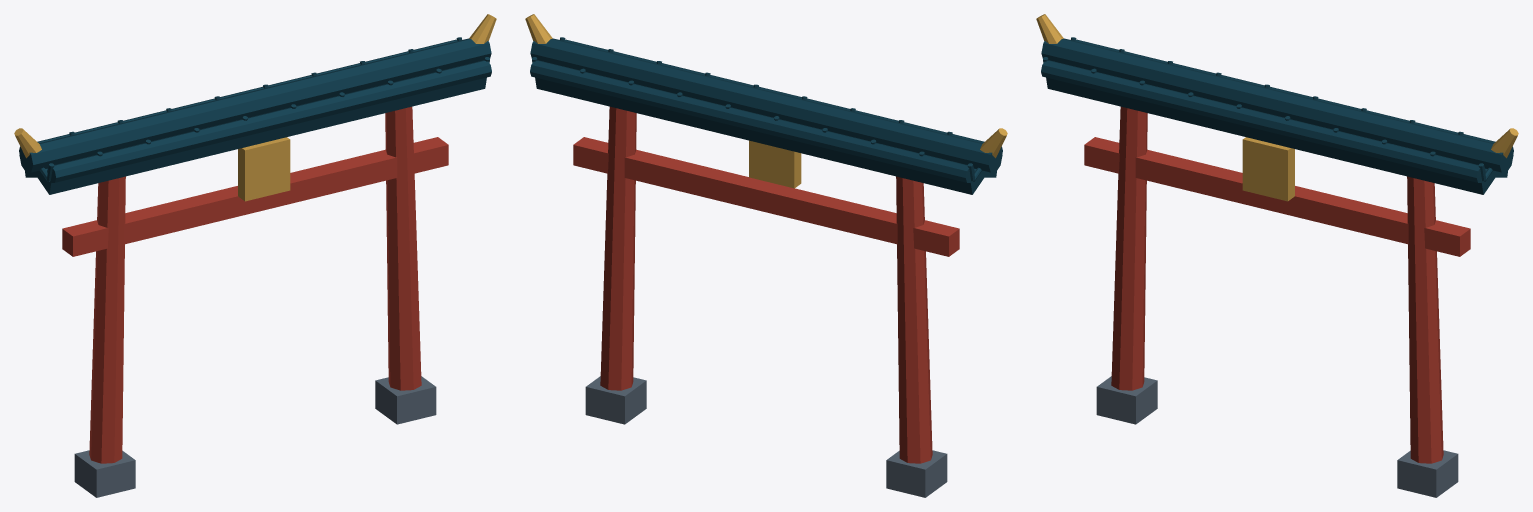
The model's file is torii.glb.
3 renders of one model, left to right at view 1: azimuth 30°, elevation 25°; view 2: azimuth 150°, elevation 25°; view 3: azimuth 330°, elevation 25°, orthographic.
Visible parts, largest first — view 1: torii; view 2: torii; view 3: torii.
Boxes of the visible parts, x1,y1,x2,y2 form: torii: (14,14,496,497); torii: (525,14,1007,497); torii: (1036,14,1518,497).
Size of the model in its own units: 6.4 by 4.8 by 0.86.
